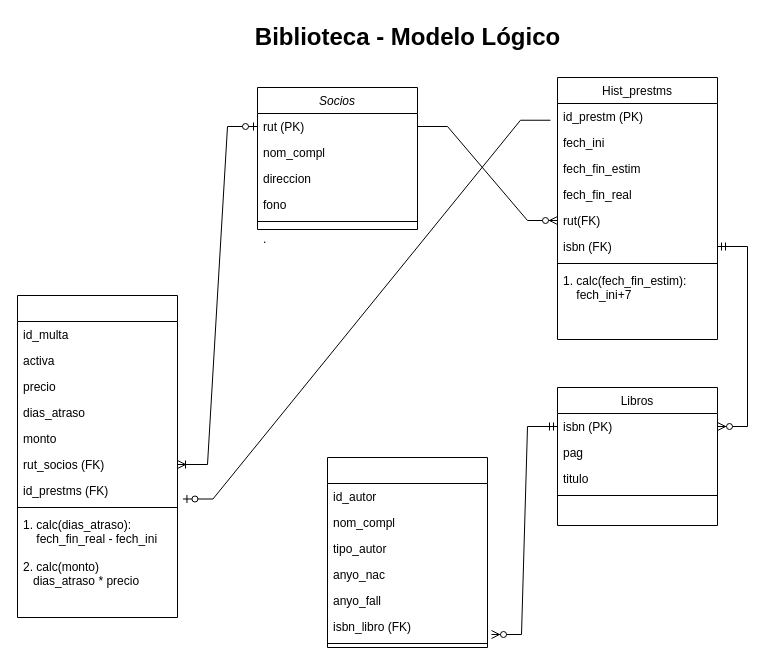
The diagram is 774 pixels wide and 665 high, and some of its shapes have lost their labels. Here are the shapes that lost their labels. From the top down, the box of each, then its label:
(16, 294, 178, 618): Multas
(326, 456, 488, 648): Autores
